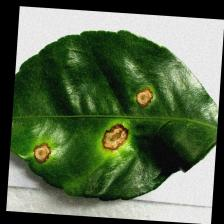canker: (30, 84, 162, 174)
